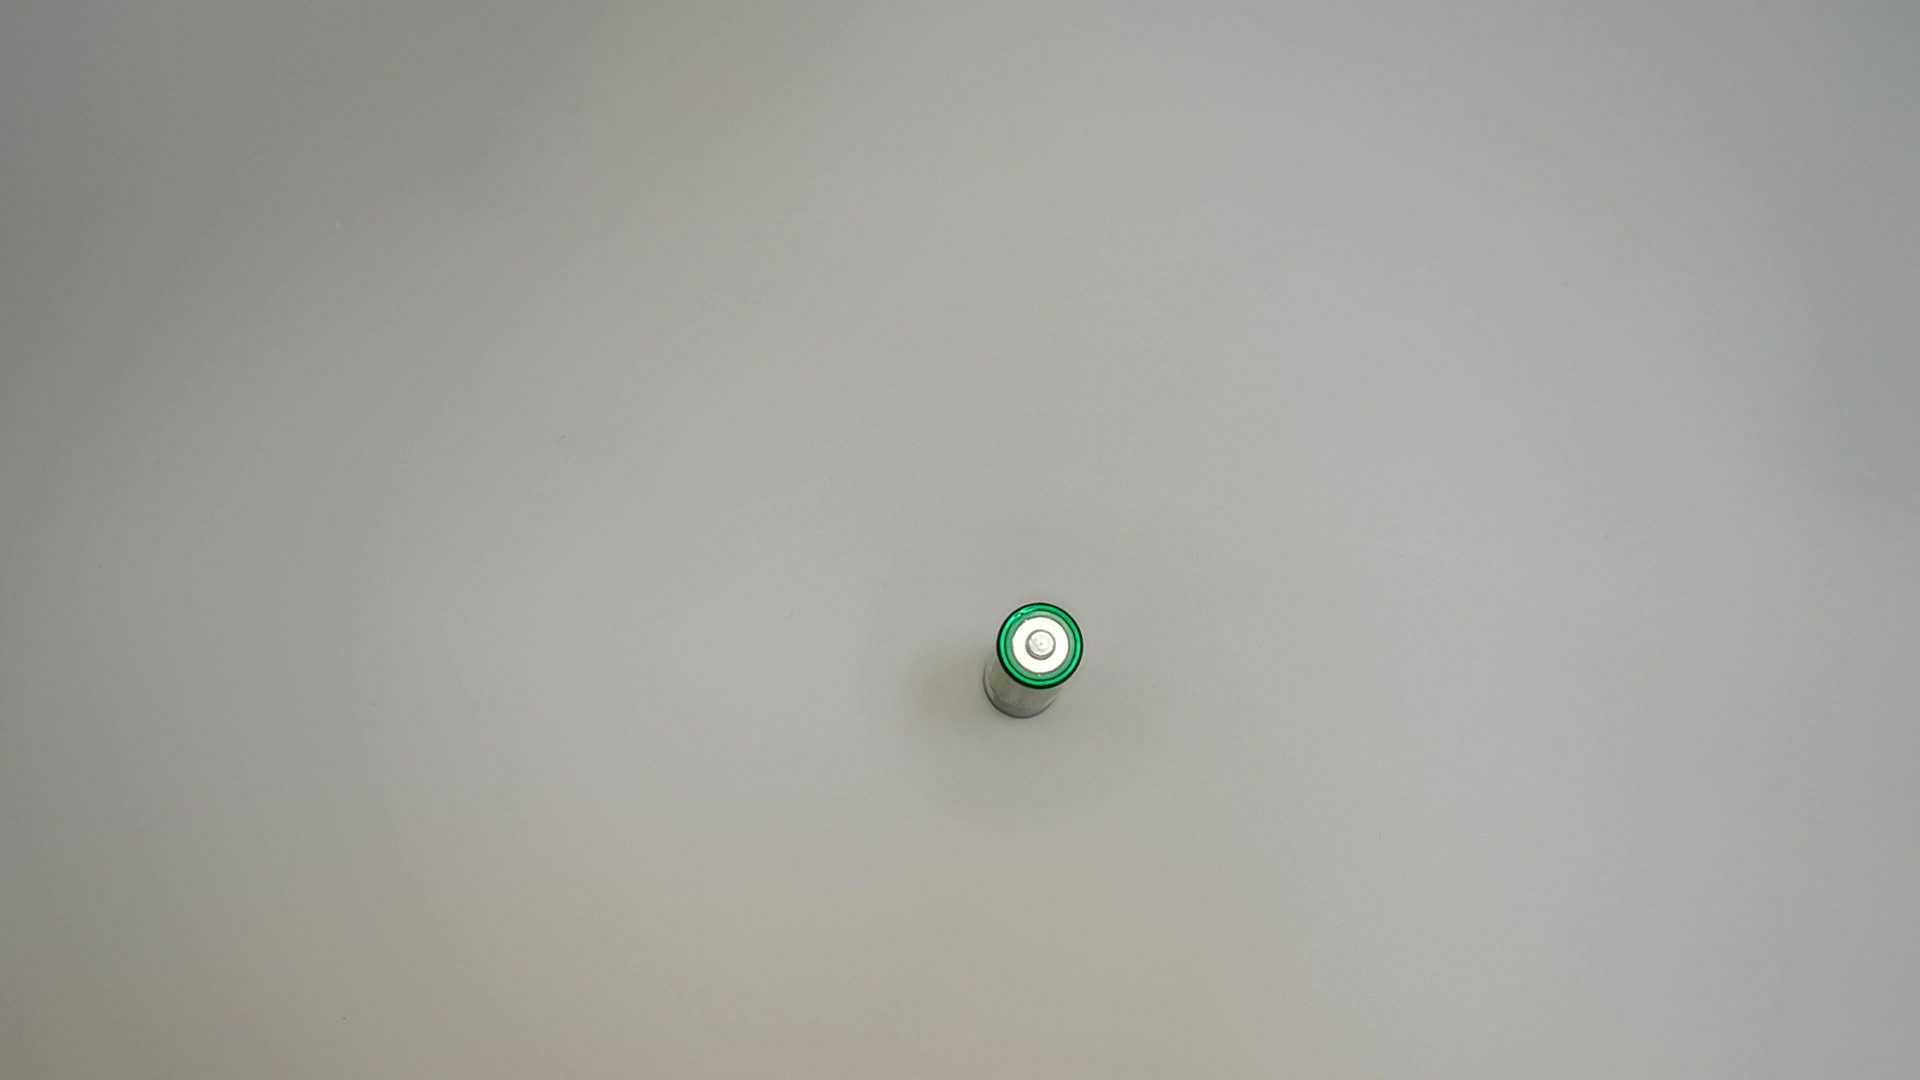battery: (981, 597, 1088, 731)
